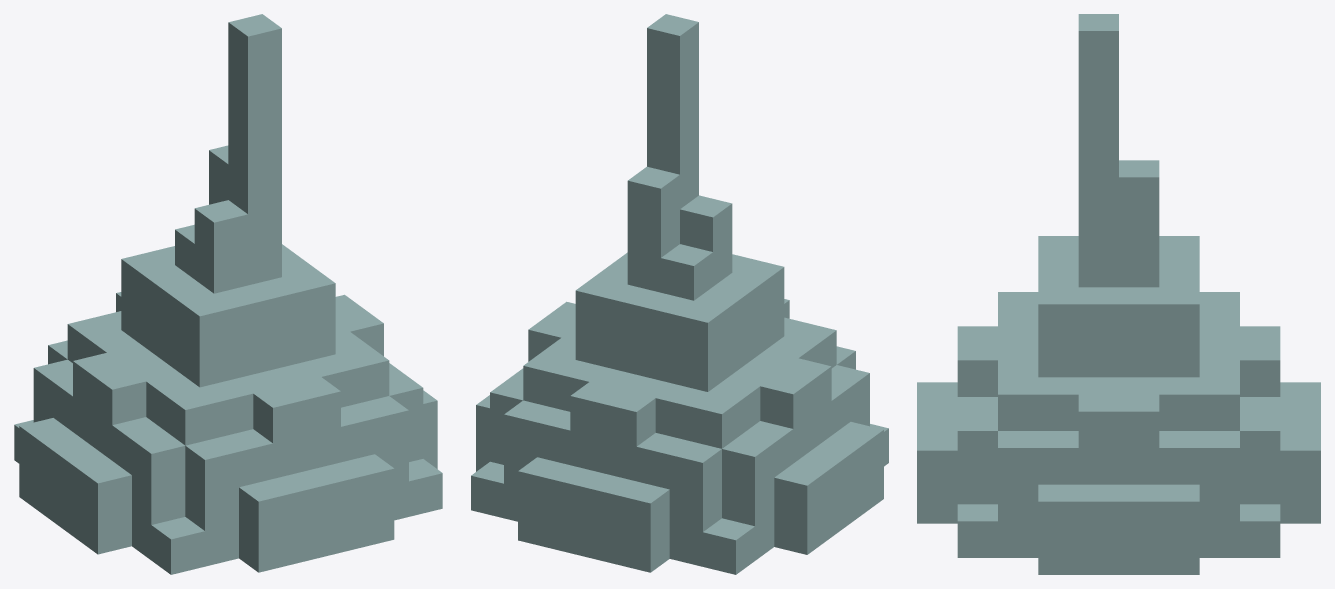
Rendered from Pointyrock4.obj.
The picture shows the model from 3 angles, left to right: view 1: azimuth 30°, elevation 25°; view 2: azimuth 150°, elevation 25°; view 3: azimuth 270°, elevation 25°; orthographic projection. The views are drawn at different scales.
Visible parts, largest first — view 1: Pointyrock4; view 2: Pointyrock4; view 3: Pointyrock4.
Part boxes in pixels (left/top/right/bottom): Pointyrock4: left=14, top=14, right=442, bottom=574; Pointyrock4: left=471, top=14, right=888, bottom=574; Pointyrock4: left=917, top=14, right=1320, bottom=574.
Bounding box in the file's own units: 10 × 13 × 10.
Materials: 1 (1 with a texture image).
